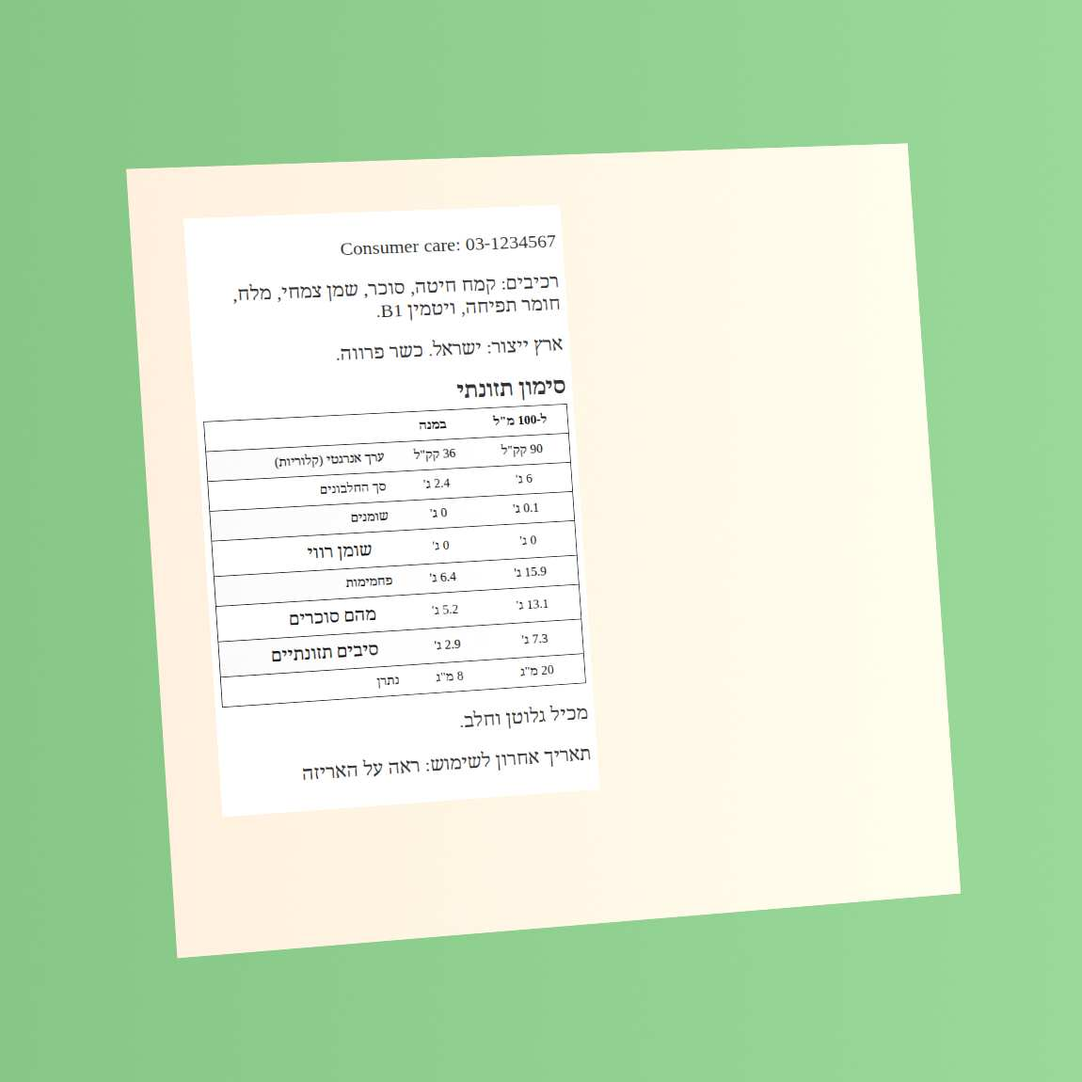carbs: (512, 562, 549, 583)
energy: (499, 440, 545, 461)
fat: (511, 499, 541, 519)
protein: (513, 470, 535, 489)
